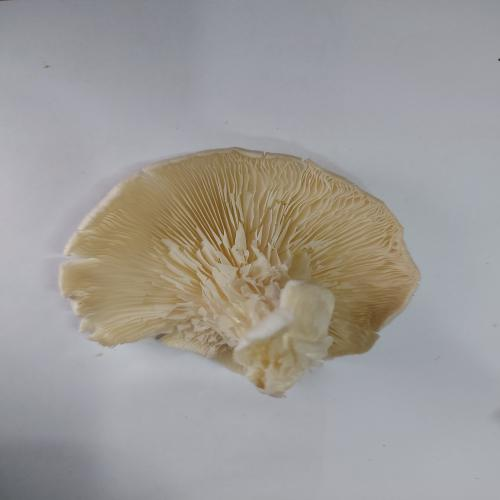Oyster Mushroom: (58, 146, 422, 398)
